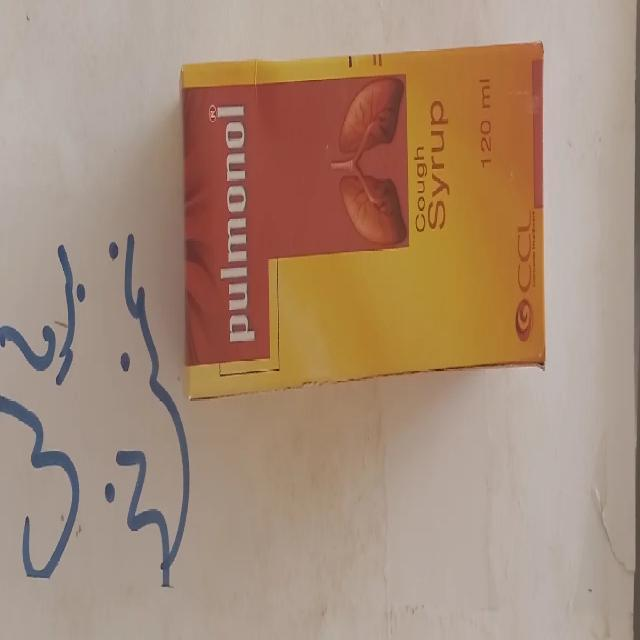drug-name: (215, 96, 258, 354)
